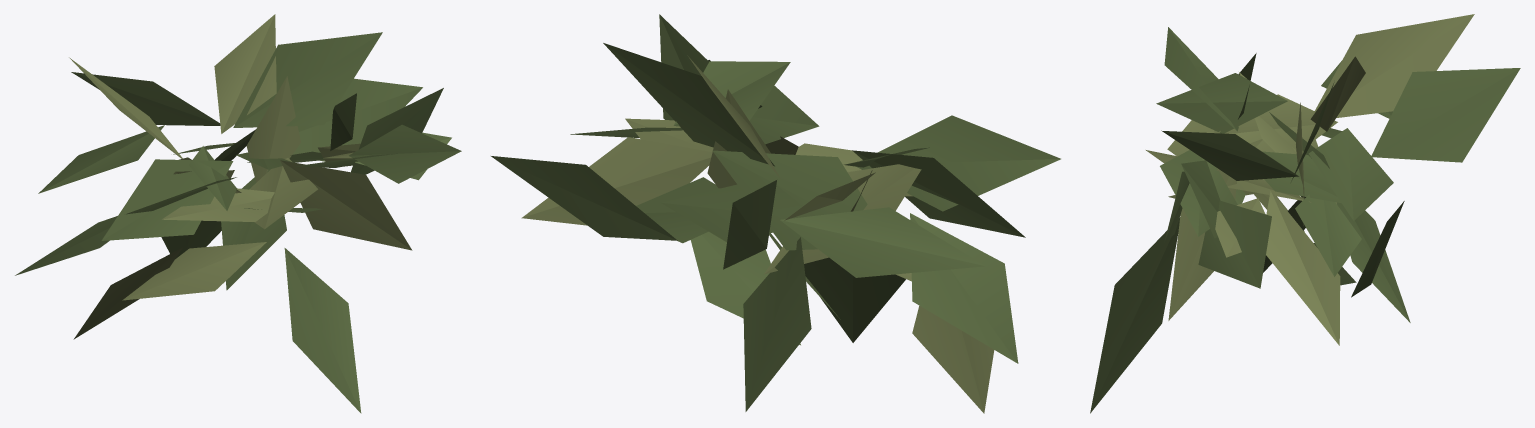
Rendered from garden-plant.glb.
The picture shows the model from 3 angles, left to right: view 1: azimuth 30°, elevation 25°; view 2: azimuth 150°, elevation 25°; view 3: azimuth 270°, elevation 25°; orthographic projection. The views are drawn at different scales.
Parts seen in each view (by area): view 1: garden-plant; view 2: garden-plant; view 3: garden-plant.
Part boxes in pixels (<box>): garden-plant: <box>15,14,461,413</box>; garden-plant: <box>491,14,1060,413</box>; garden-plant: <box>1090,14,1520,413</box>.
Size of the model in its own units: 0.7529 by 0.533 by 0.5589.
